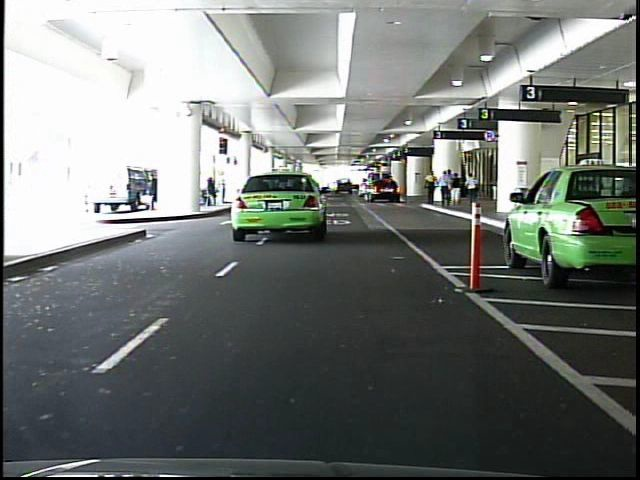person: (464, 169, 483, 210), (439, 165, 454, 210), (423, 167, 439, 208), (451, 172, 463, 212)
